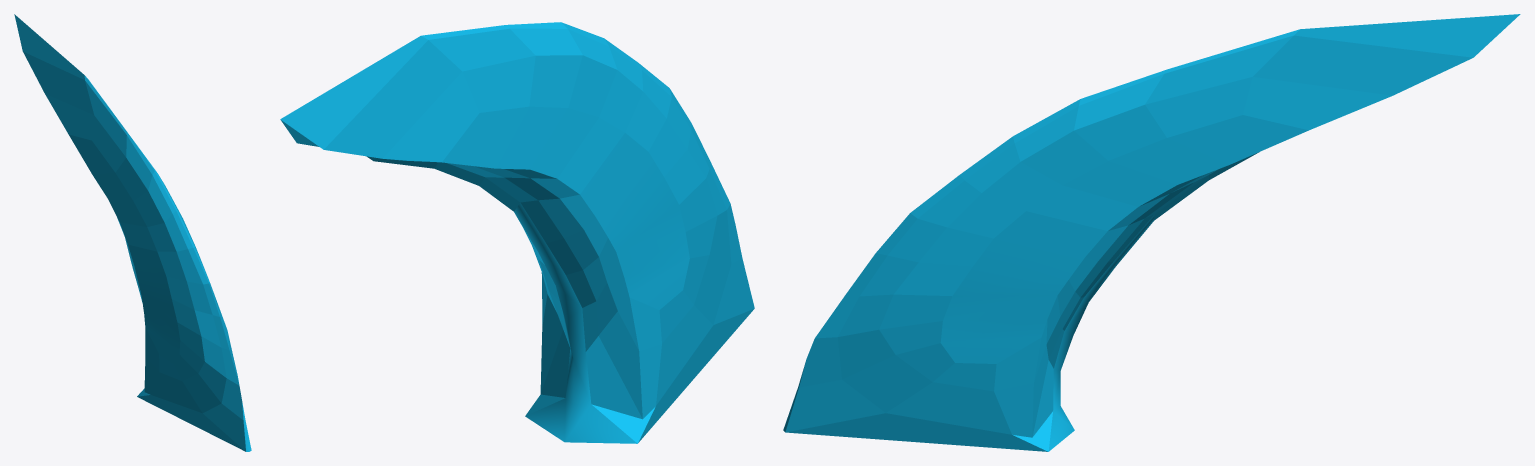
The model's file is effect.fbx.
The picture shows the model from 3 angles, left to right: view 1: azimuth 30°, elevation 25°; view 2: azimuth 150°, elevation 25°; view 3: azimuth 270°, elevation 25°; orthographic projection. The views are drawn at different scales.
Visible parts, largest first — view 1: Torus003; view 2: Torus003; view 3: Torus003.
Part boxes in pixels (bbox=[...]): Torus003: bbox=[14, 14, 251, 451]; Torus003: bbox=[280, 22, 754, 443]; Torus003: bbox=[783, 14, 1520, 451].
Size of the model in its own units: 152 by 683 by 1097.
